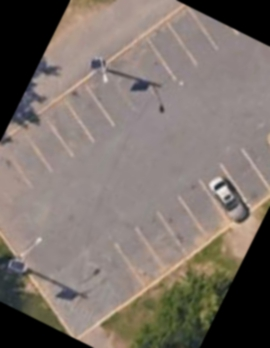parkingspot: (0, 3, 249, 220), (109, 125, 270, 294)
